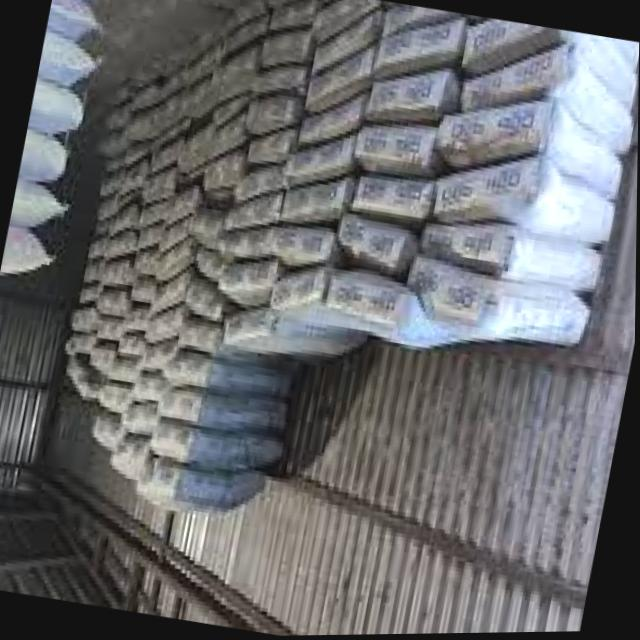cement_bag: (468, 48, 639, 147), (437, 216, 608, 300), (224, 307, 365, 369), (142, 452, 267, 510), (160, 384, 292, 437), (156, 418, 290, 468), (176, 351, 297, 400), (416, 256, 499, 323), (438, 154, 534, 210), (447, 102, 548, 149), (336, 267, 412, 328), (383, 20, 460, 67), (356, 170, 431, 217), (318, 15, 378, 72), (310, 53, 369, 110), (345, 212, 408, 263), (371, 70, 447, 112), (288, 134, 352, 181), (274, 221, 338, 264), (283, 175, 343, 220), (361, 127, 429, 162), (227, 191, 281, 232), (273, 271, 321, 314), (264, 29, 310, 66), (223, 260, 274, 293), (187, 275, 224, 320), (246, 100, 295, 133), (213, 48, 255, 85), (207, 152, 238, 195), (149, 302, 186, 338), (96, 410, 127, 446), (145, 168, 175, 205), (271, 0, 309, 29), (249, 131, 286, 160), (163, 239, 191, 277), (153, 94, 184, 128), (128, 403, 160, 428), (76, 302, 99, 333), (110, 233, 137, 259), (113, 360, 145, 380), (101, 286, 126, 310), (99, 317, 124, 340), (137, 247, 158, 271)
